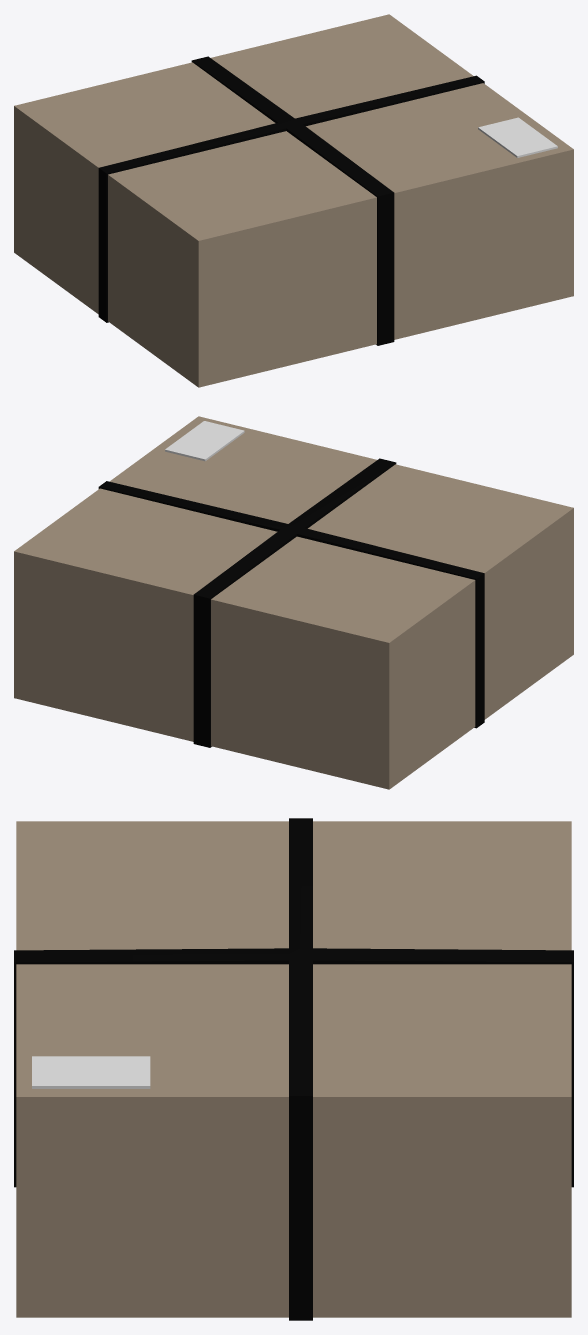
File: package03.fbx
The picture shows the model from 3 angles, top to bottom: view 1: azimuth 30°, elevation 25°; view 2: azimuth 150°, elevation 25°; view 3: azimuth 270°, elevation 25°; orthographic projection. The views are drawn at different scales.
Visible parts, largest first — view 1: pCube1; view 2: pCube1; view 3: pCube1.
Part boxes in pixels (x1,y1,x2,y2): pCube1: (14, 14, 573, 387); pCube1: (14, 416, 573, 789); pCube1: (14, 818, 573, 1320).
Size of the model in its own units: 2.92 by 1.12 by 2.49.
